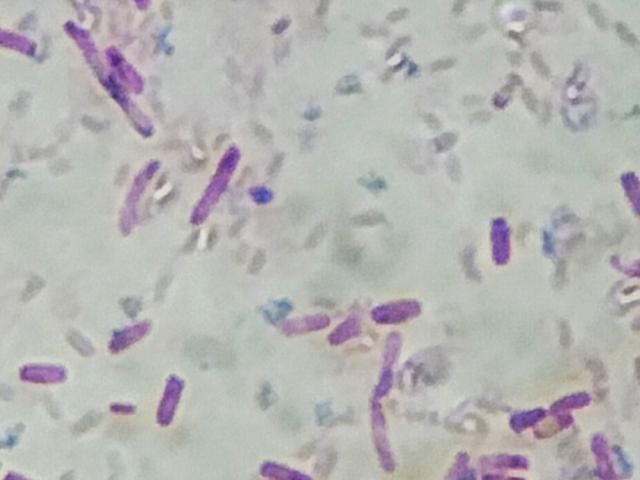E. coli: (191, 145, 242, 233), (116, 157, 161, 233), (105, 76, 152, 138), (366, 397, 398, 473), (63, 22, 106, 78), (11, 355, 74, 386), (373, 332, 408, 386), (103, 319, 150, 358), (259, 453, 326, 480), (153, 370, 186, 423), (613, 161, 640, 224), (275, 305, 327, 336), (485, 210, 513, 267), (589, 433, 621, 480), (373, 297, 425, 323), (106, 45, 139, 83), (509, 399, 550, 429), (0, 22, 30, 61), (533, 415, 580, 439), (331, 315, 366, 347), (547, 388, 590, 414), (105, 399, 142, 421), (482, 449, 528, 466), (453, 450, 477, 480), (485, 466, 521, 480)
